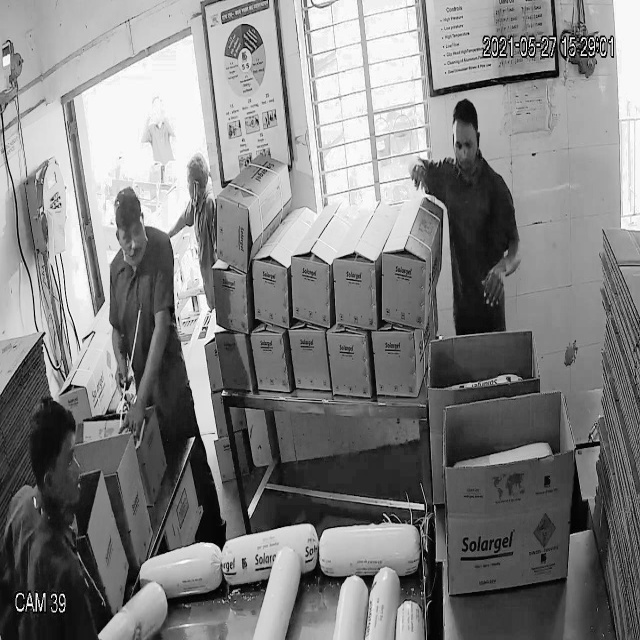Sin_gafas: (446, 128, 483, 159), (111, 223, 147, 252)
